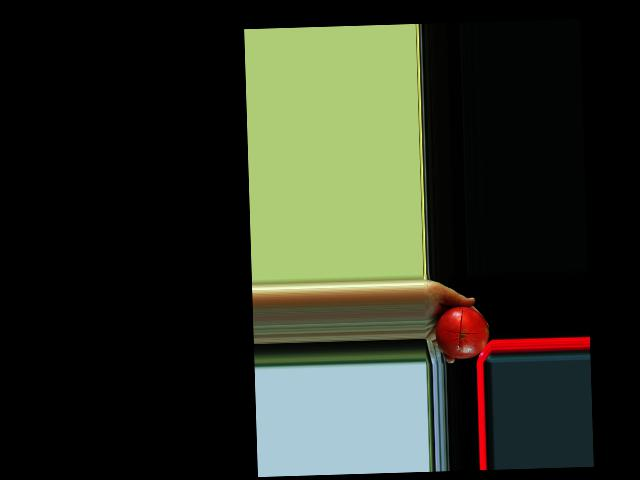tomato: (434, 305, 489, 360)
